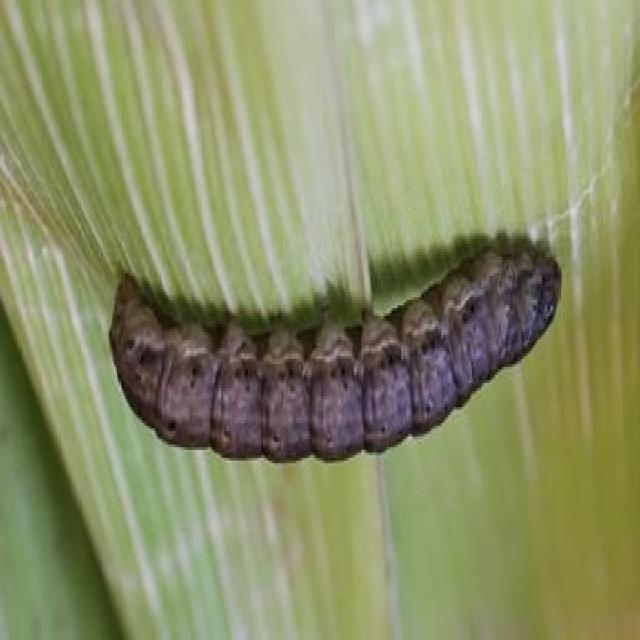black cutworm: (109, 258, 564, 467)
